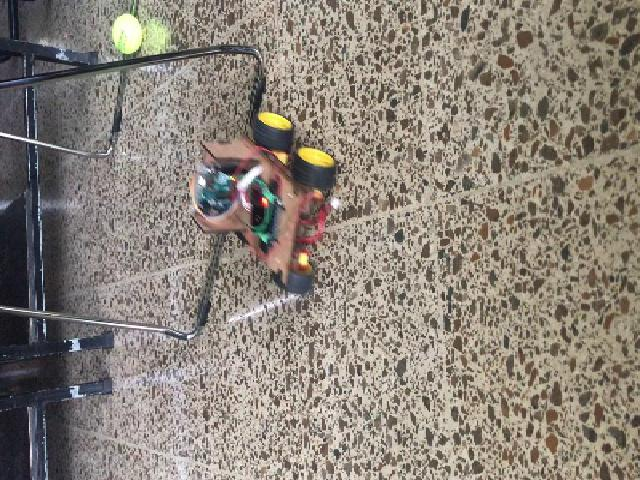Ball: (112, 14, 139, 53)
Robot: (190, 110, 325, 293)
